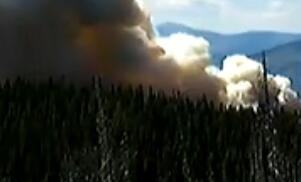yanwu: (2, 0, 291, 109)
